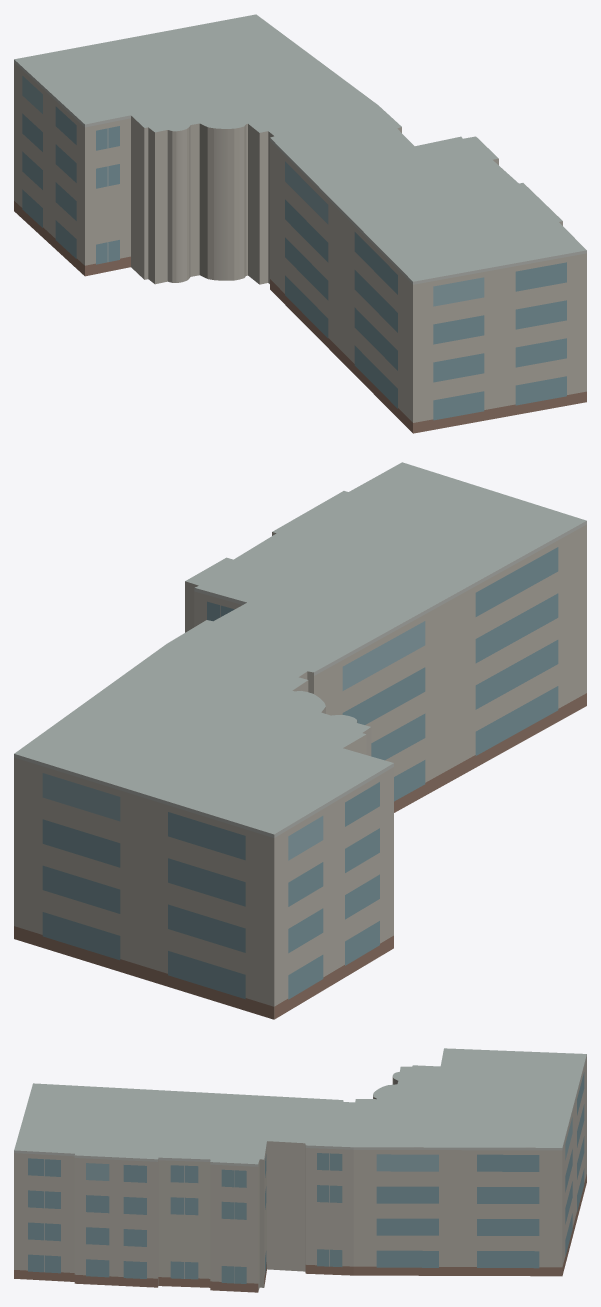
File: survey-upis-32658974.glb
3 renders of one model, top to bottom at view 1: azimuth 30°, elevation 25°; view 2: azimuth 150°, elevation 25°; view 3: azimuth 270°, elevation 25°, orthographic. The views are drawn at different scales.
Visible parts, largest first — view 1: survey-upis-32658974.tmp; view 2: survey-upis-32658974.tmp; view 3: survey-upis-32658974.tmp.
Part boxes in pixels (x1,y1,x2,y2): survey-upis-32658974.tmp: (14, 14, 586, 433); survey-upis-32658974.tmp: (14, 462, 586, 1019); survey-upis-32658974.tmp: (14, 1048, 586, 1292).
Bounding box in the file's own units: 23.65 × 12.2 × 49.37.
